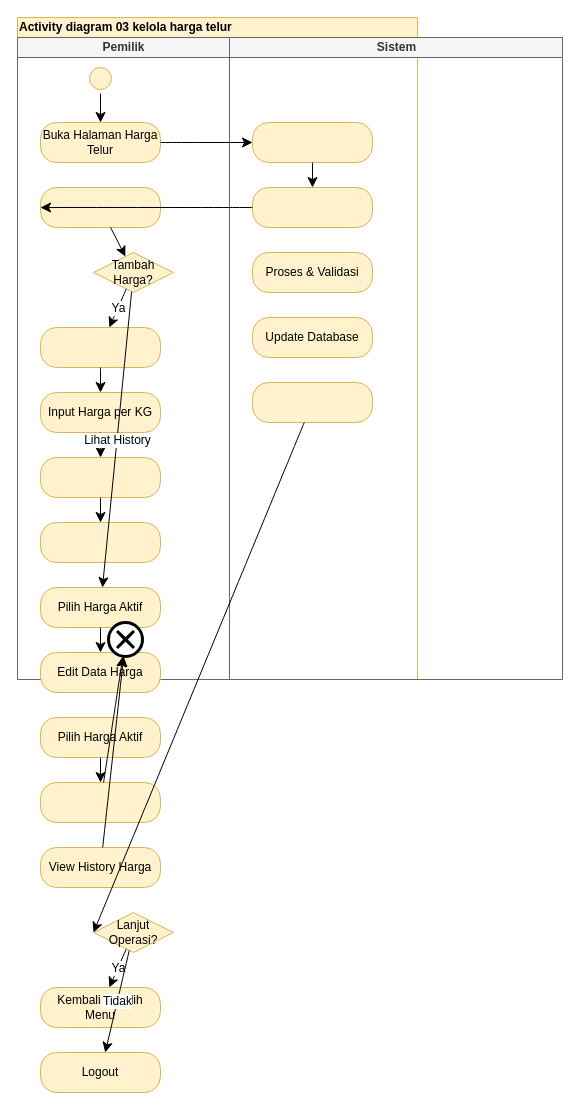
Some shapes in this 580 by 1110 pixel diagram are drawn without their labels. The centre of each missing label's shape, as x and y in pixels:
"Confirm Tandai Hangus" goes at point (100, 802).
"Input Harga per Butir" goes at point (100, 477).
"Input Jenis Harga" goes at point (100, 347).
"Input Tanggal Berlaku" goes at point (100, 542).
"Pilih Menu" goes at point (100, 207).
"Return Notifikasi" goes at point (312, 402).
"Status: Aktif & Hangus" goes at point (312, 207).
"Tampilkan Daftar Harga" goes at point (312, 142).
